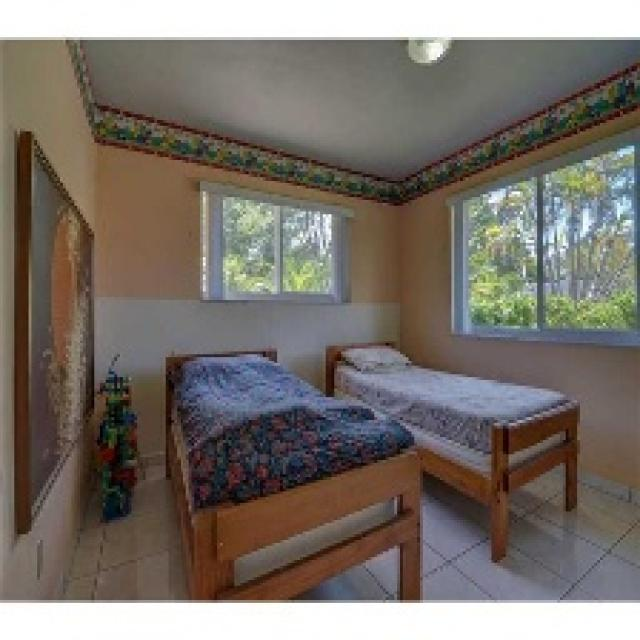Bed: (163, 346, 423, 600), (323, 340, 580, 560)
